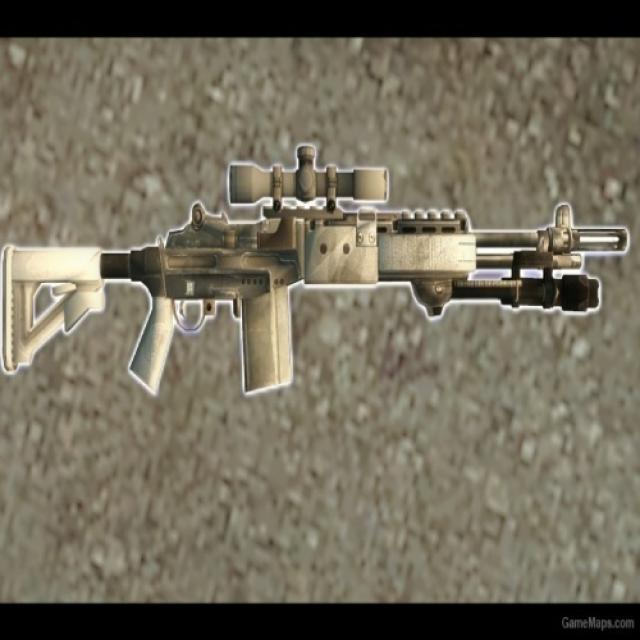Gun: (13, 154, 636, 395)
